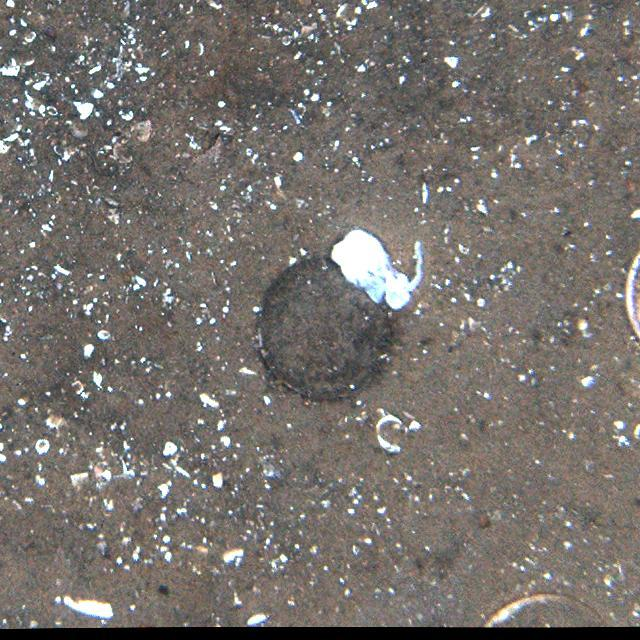scallop: (258, 252, 390, 408)
